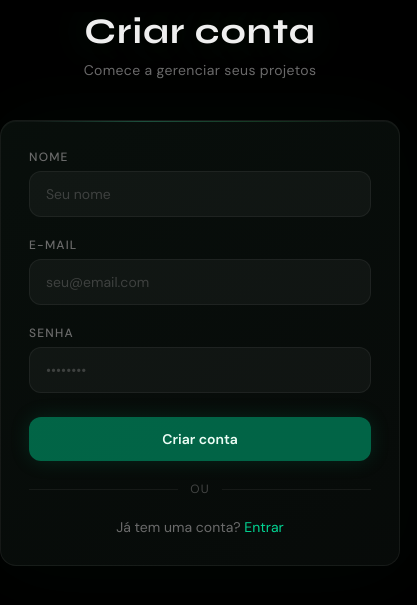
Test case: RegisterPage › validates password requires minimum 8 chars
Type "Junior Almeida" into the field labelled "Nome". click: x=200, y=194
box: [29,171,371,217]
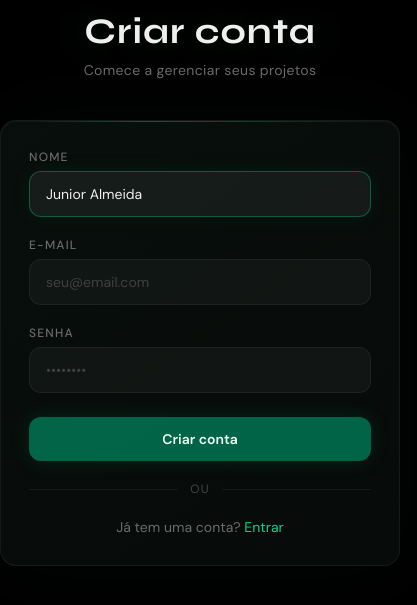
Type "junior@email.com" into the field labelled "E-mail". click: x=200, y=282
box: [29,259,371,305]
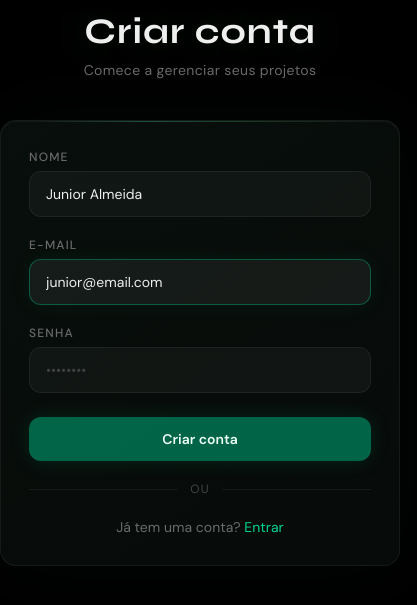
Type "Ab1" into the password field labelled "Senha". click: x=200, y=370
box: [29,347,371,393]
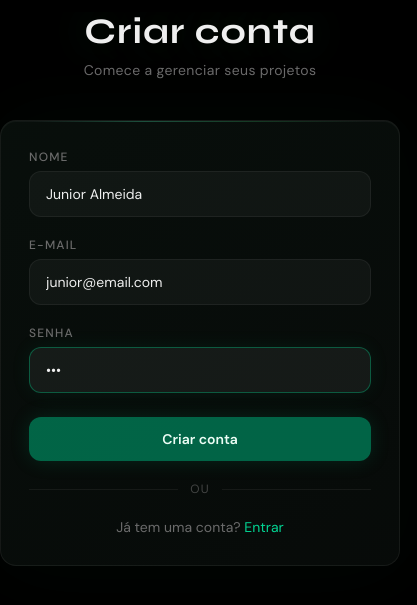
Click the button "Criar conta". click: x=200, y=439
box: [29,417,371,461]
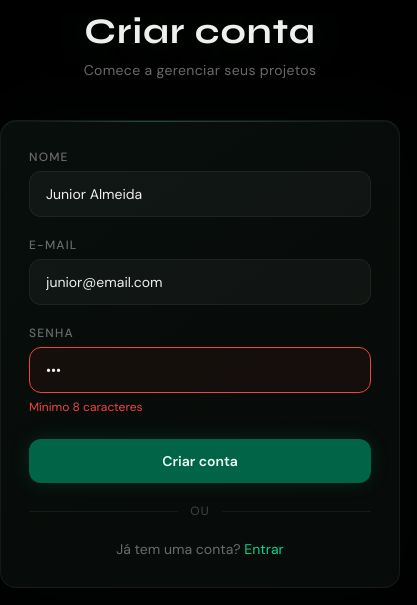
Now the text "Mínimo 8 caracteres" is shown, box [29,399,142,415]
